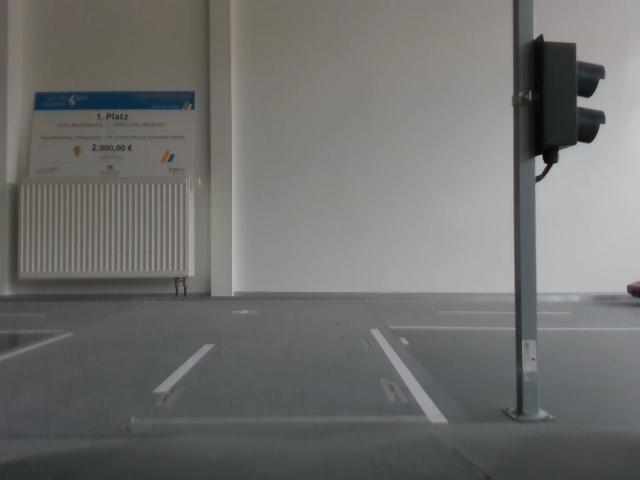traffic light: (517, 32, 613, 172)
